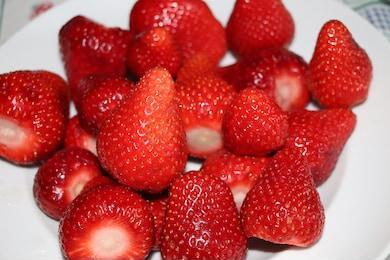Fresa: (93, 61, 193, 199), (238, 145, 328, 253), (57, 169, 157, 260), (159, 166, 251, 260), (2, 56, 76, 168), (304, 17, 374, 111)
